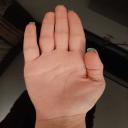OpenPalm: (23, 4, 110, 118)
